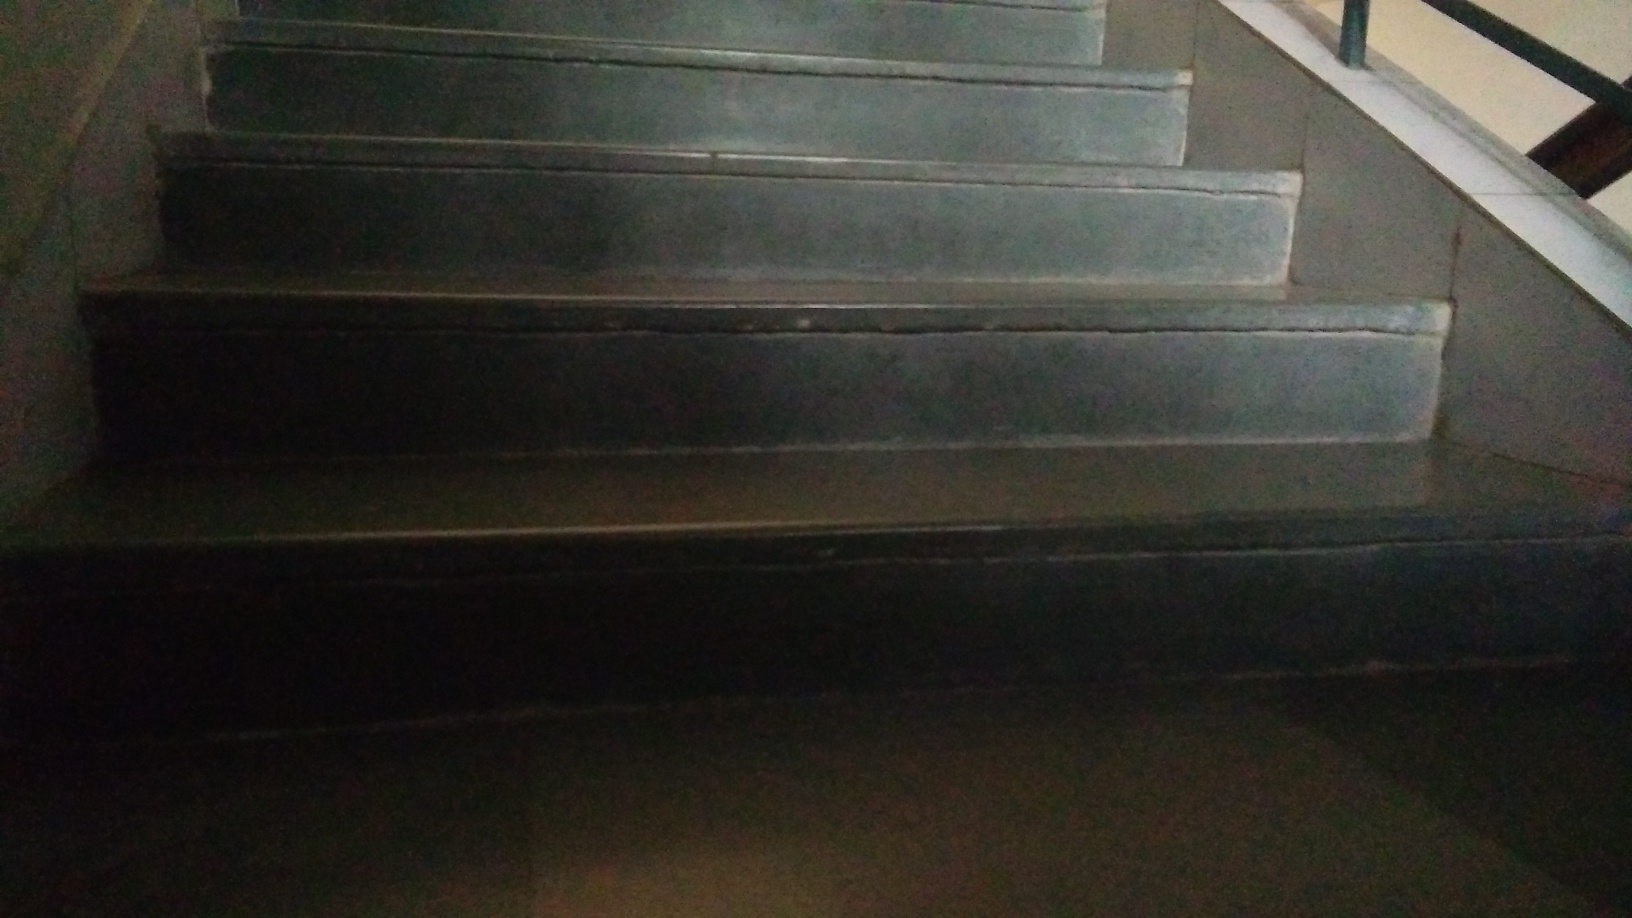stairs_up: (28, 10, 1623, 727)
